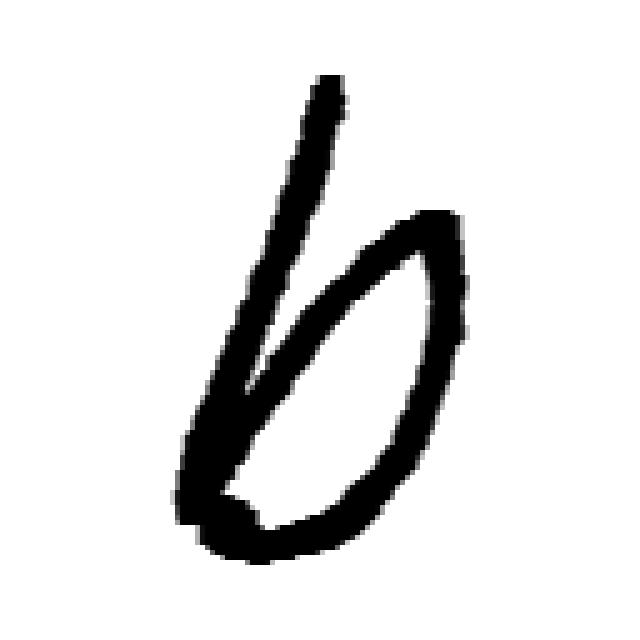B: (175, 75, 470, 565)
